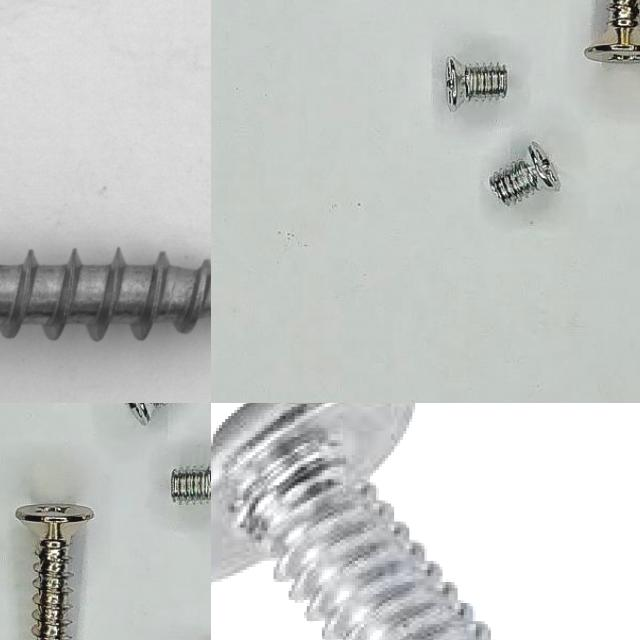Screw: (211, 403, 502, 640), (0, 170, 211, 403), (15, 505, 92, 640), (489, 142, 560, 205), (584, 0, 640, 63), (445, 57, 508, 111), (170, 467, 211, 504)
